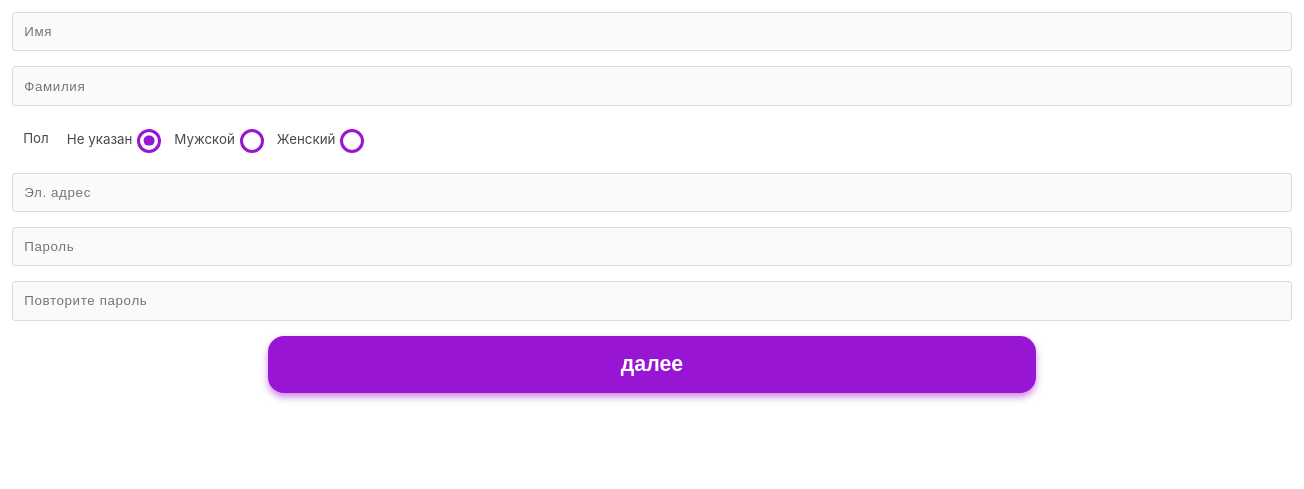
Test: RegistrationForm › reports when passwords don't match
Type "Ivan" into the field with placeholder "Имя".
click(652, 32); type("Ivan")  # box 12,12 -> 1292,51
Type "Ivanov" into the field with placeholder "Фамилия".
click(652, 86); type("Ivanov")  # box 12,66 -> 1292,106
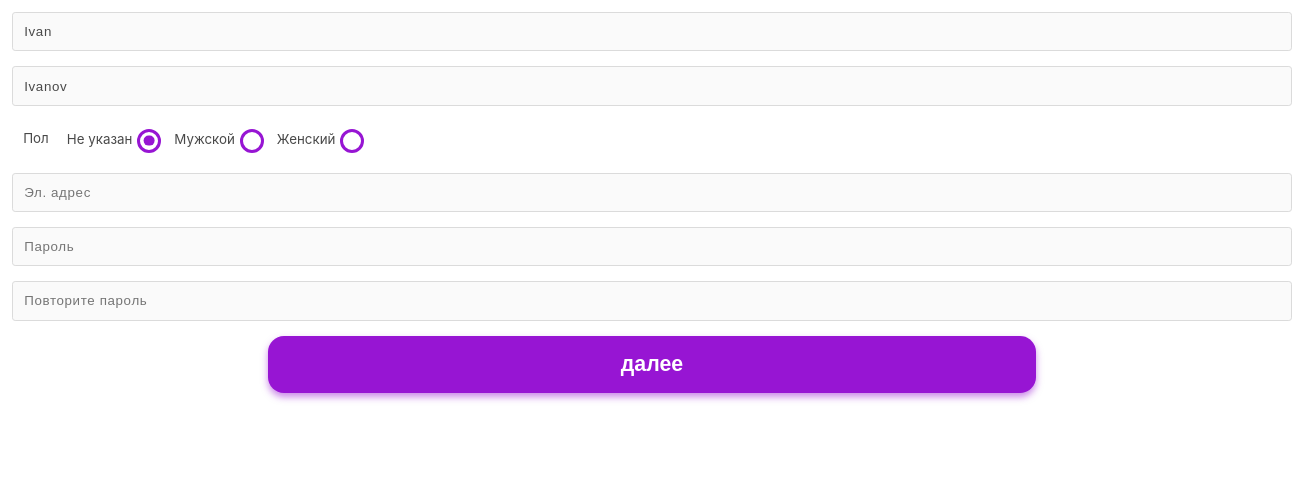
Type "asdf@asdf.asdf" into the field with placeholder "Эл. адрес".
click(652, 192); type("asdf@asdf.asdf")  # box 12,172 -> 1292,212
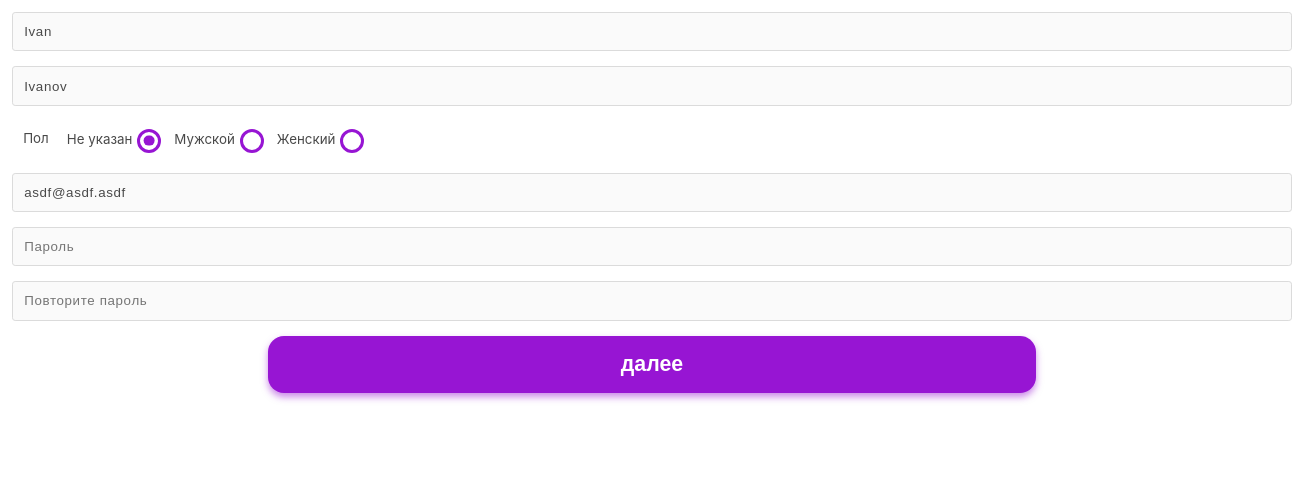
Type "Hunter2!" into the password field with placeholder "Пароль".
click(652, 247); type("Hunter2!")  # box 12,227 -> 1292,266
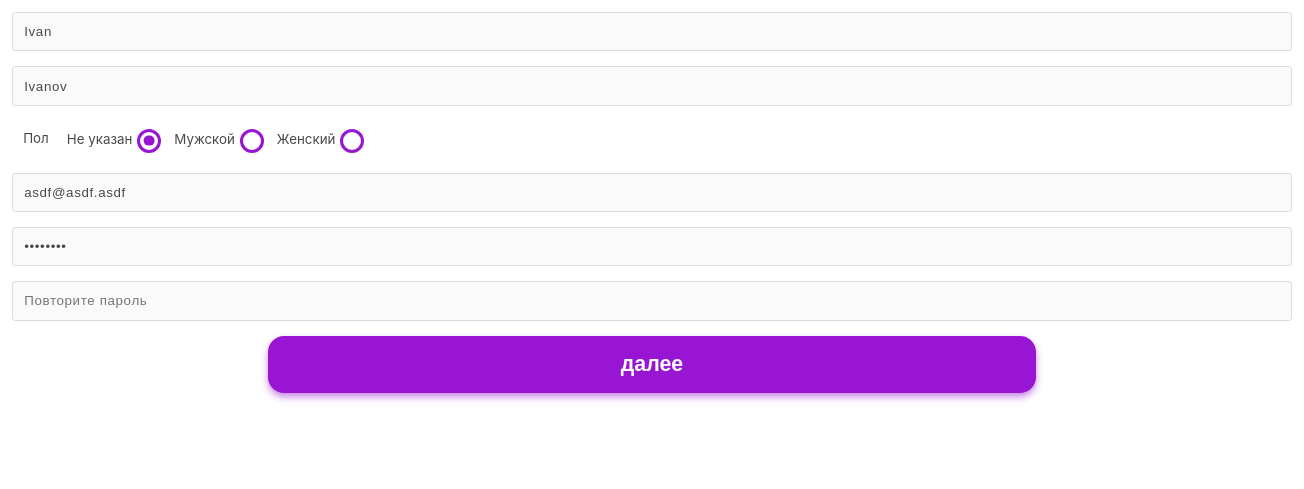
Type "Hunter2" into the password field with placeholder "Повторите пароль".
click(652, 301); type("Hunter2")  # box 12,281 -> 1292,321
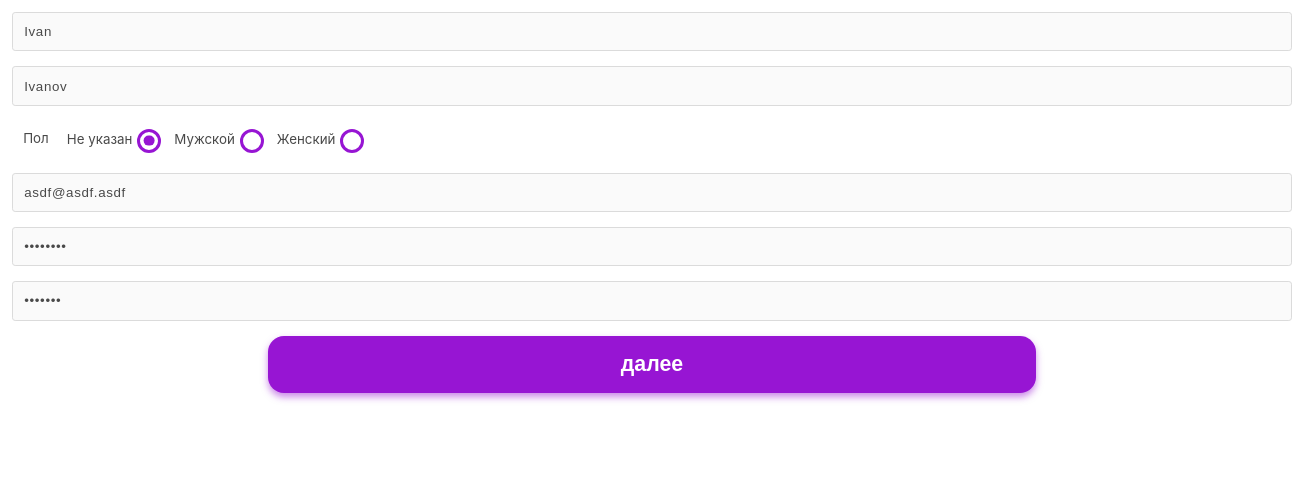
Click the radio button labelled "Мужской".
click(252, 141)  # box 240,129 -> 264,153
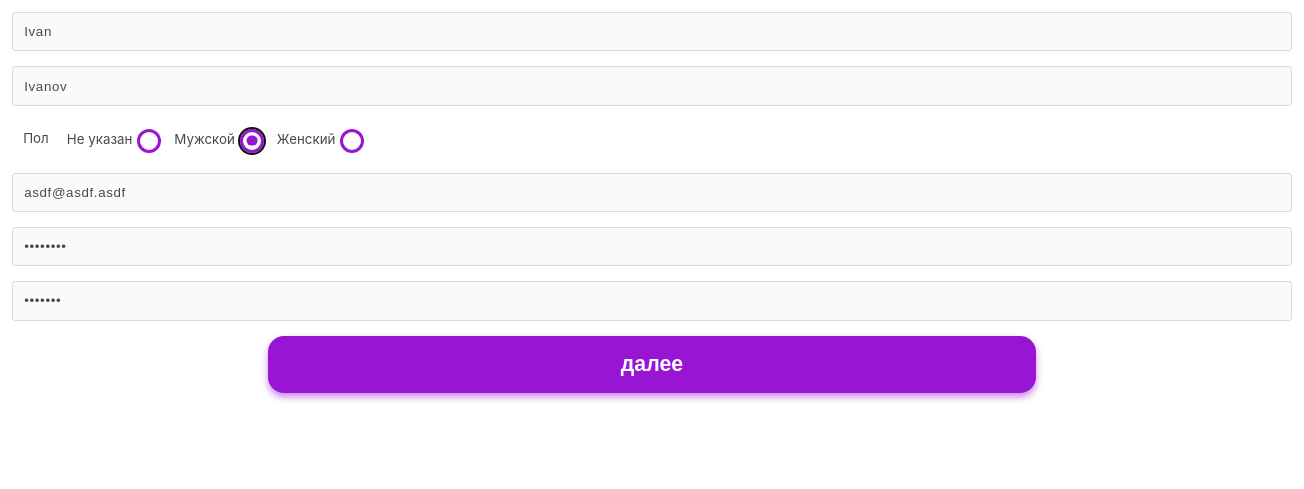
Click the button "далее".
click(652, 364)  # box 268,336 -> 1036,393
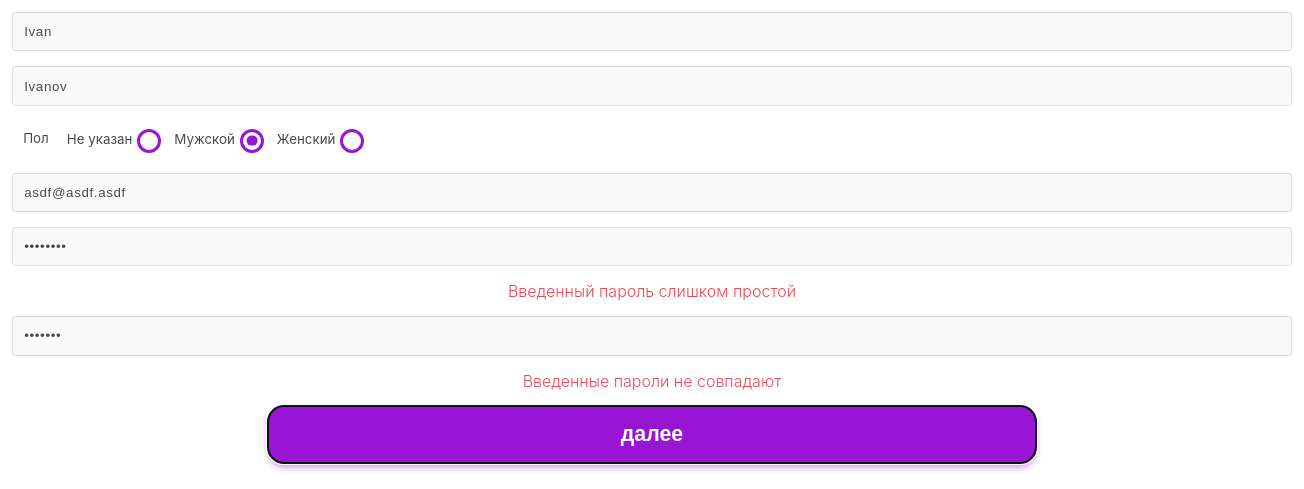
expect the text "Введенные пароли не совпадают" is shown: met, box 523,371 -> 781,391
